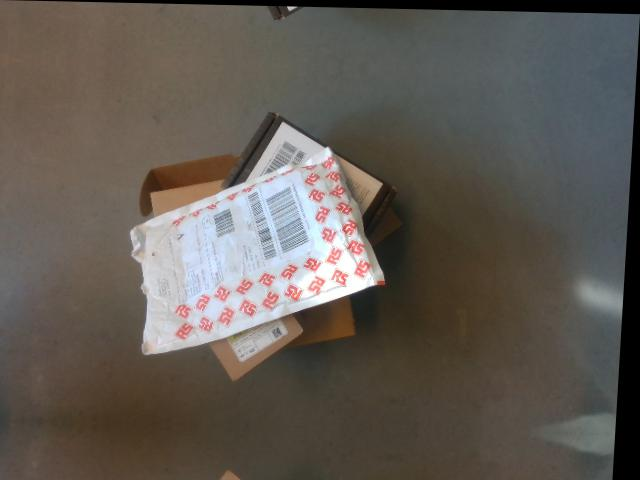label: (148, 172, 330, 315)
package: (120, 146, 383, 360), (170, 111, 384, 331), (137, 173, 300, 380), (232, 141, 359, 348)
